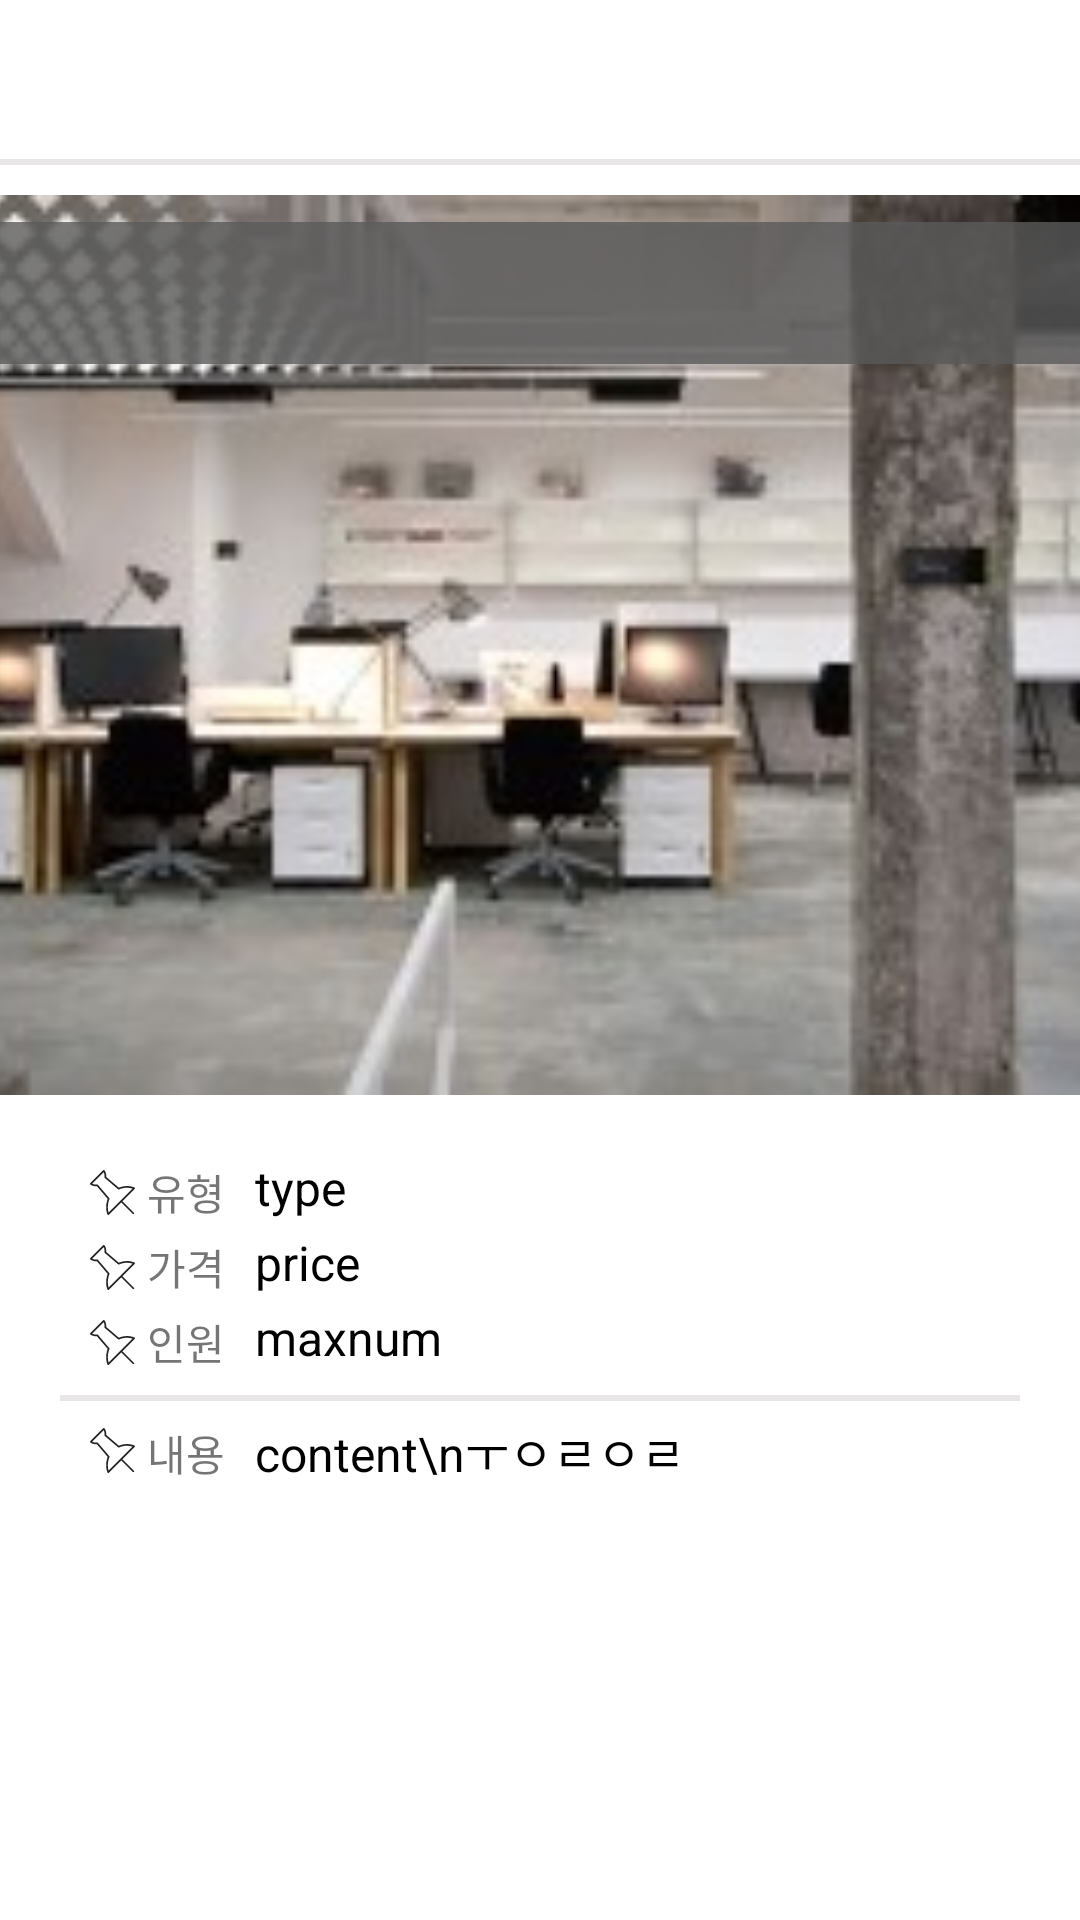

Point at icon controls on the screen. Image size 1080x1920, points as (x=x, y=y).
pushpin: (x=112, y=1192), (x=112, y=1267), (x=112, y=1342), (x=112, y=1450)
